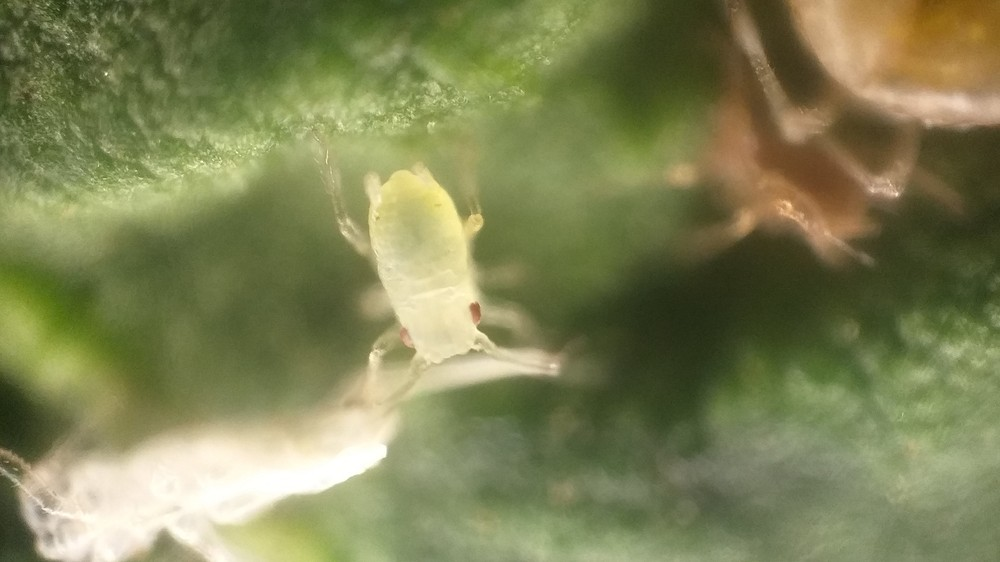Pulgon: (304, 130, 601, 417)
